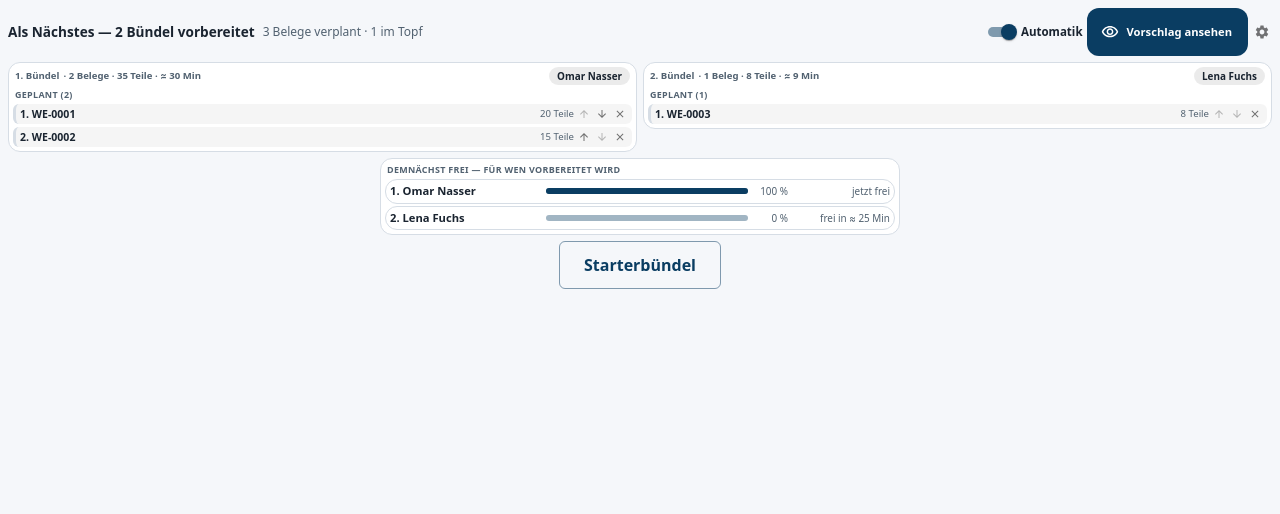
Test: VorverteilungPane › Starter-Vorlauf je Schichttyp: nur der eigene Schichttyp zieht, der andere bleibt bei 1 h
Click the button "Starterbündel" at (640, 265), box [559,241,721,289]
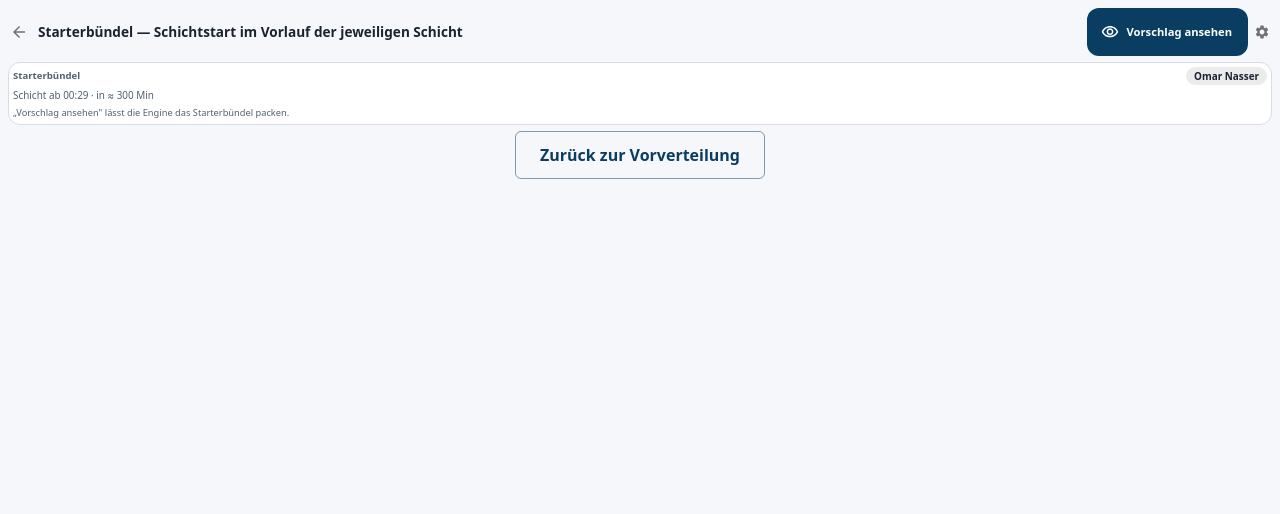
Check: the text "Starterbündel — Schichtstart im Vorlauf der jeweiligen Schicht" is shown, box [38,22,463,42]
Check: the element with test id "starter-slot-ma-2" is shown, box [8,62,1272,125]
Note: Zahnrad: je Schichttyp ein Feld, der gemeinsame Wert ist verschwunden.
Click the button named "Starterbündel einstellen" at (1262, 32), box [1252,22,1272,42]
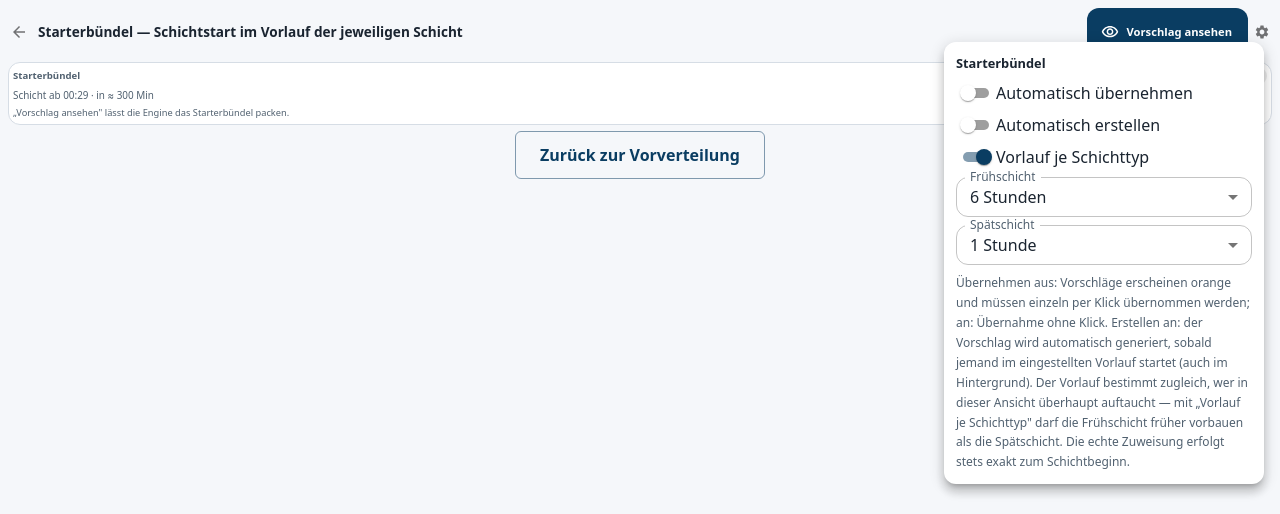
Check: the dropdown named "Frühschicht" is shown, box [970,186,1046,208]
Check: the dropdown named "Spätschicht" is shown, box [970,234,1036,256]
